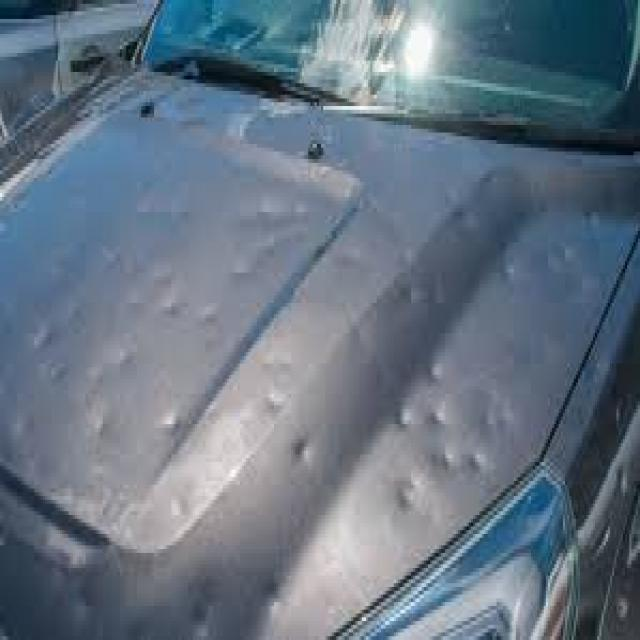minor: (19, 146, 527, 526)
